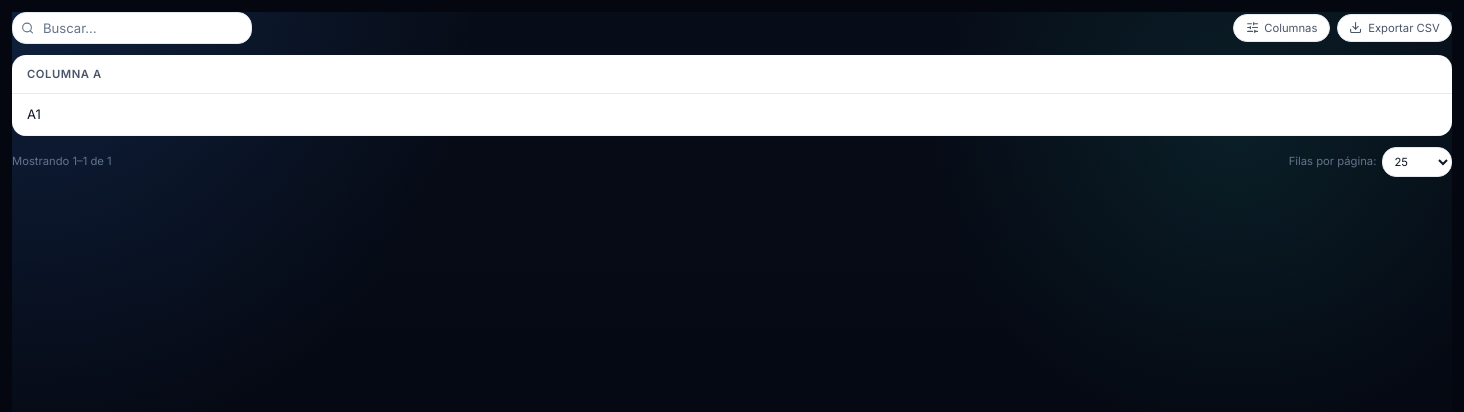
Scenario: sin storageKey no persiste nada (comportamiento de siempre)
What coordinates should you click on to do the following:
click the button "Columnas"
I would click on:
 (1282, 28)
Its box is [1233, 14, 1330, 42].
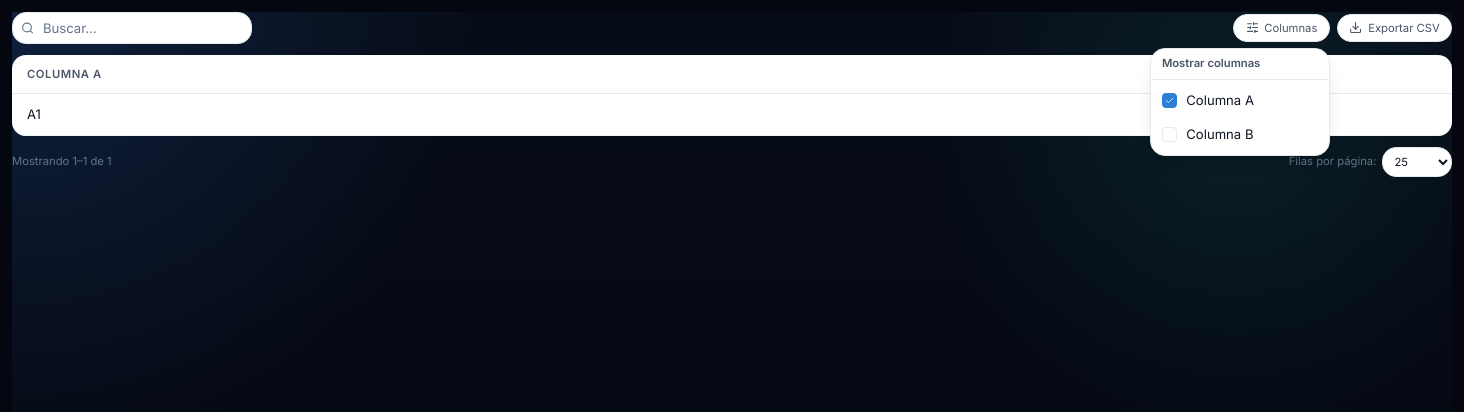
What coordinates should you click on to do the following:
click the button "Columna B"
I would click on:
 (1240, 134)
Its box is [1151, 117, 1329, 151].
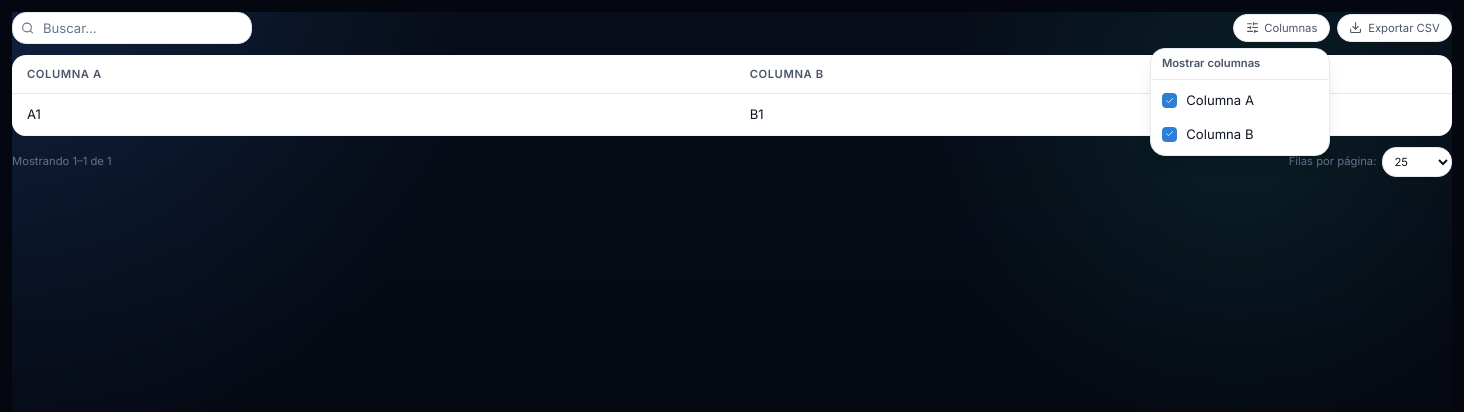
Check: the text "B1" is shown, box [735, 93, 1452, 136]
